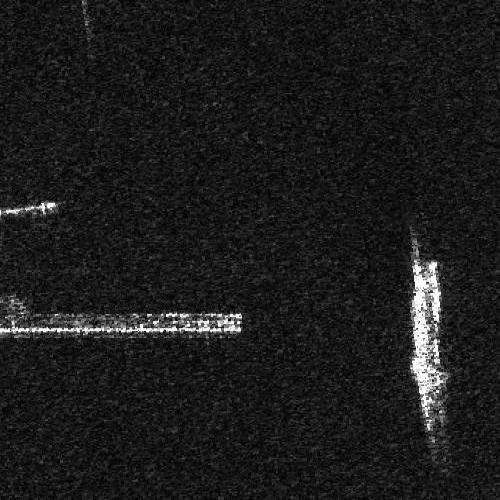ship: (411, 259, 443, 420)
